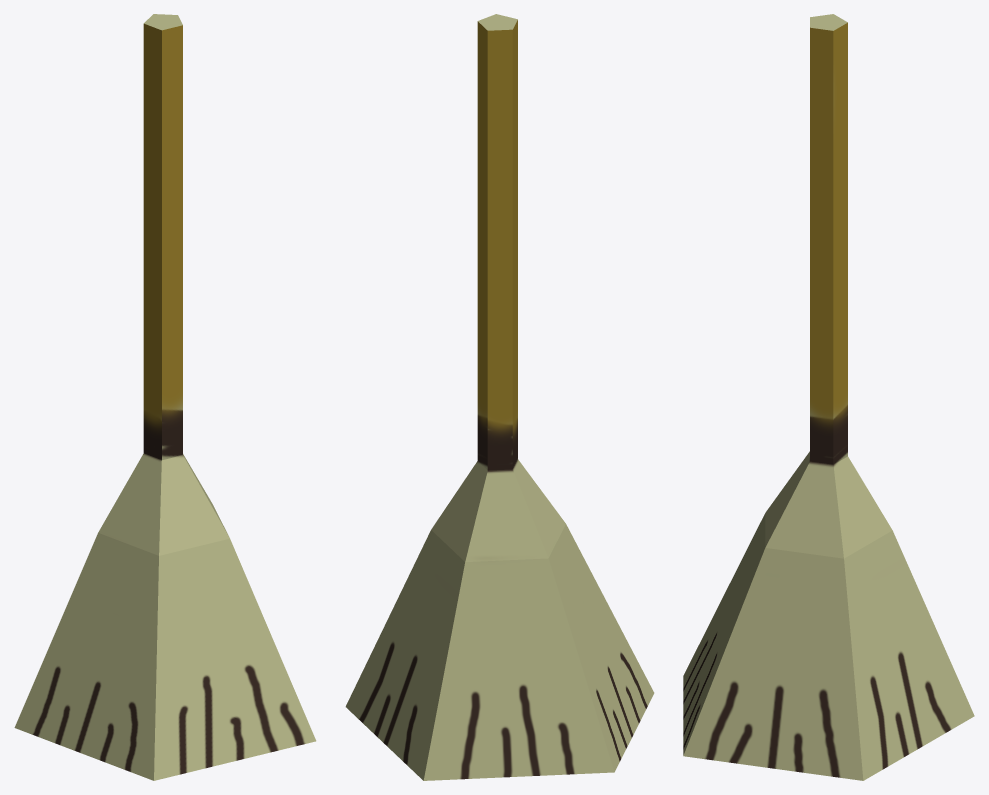
The model's file is broom.dae.
The picture shows the model from 3 angles, left to right: view 1: azimuth 30°, elevation 25°; view 2: azimuth 150°, elevation 25°; view 3: azimuth 270°, elevation 25°; orthographic projection. The views are drawn at different scales.
Visible parts, largest first — view 1: broom; view 2: broom; view 3: broom.
Part boxes in pixels (<box>): broom: <box>14,14,316,780</box>; broom: <box>345,14,654,780</box>; broom: <box>683,14,974,780</box>.
Size of the model in its own units: 1.49 by 1.42 by 3.73.
1 material, 1 textured.
